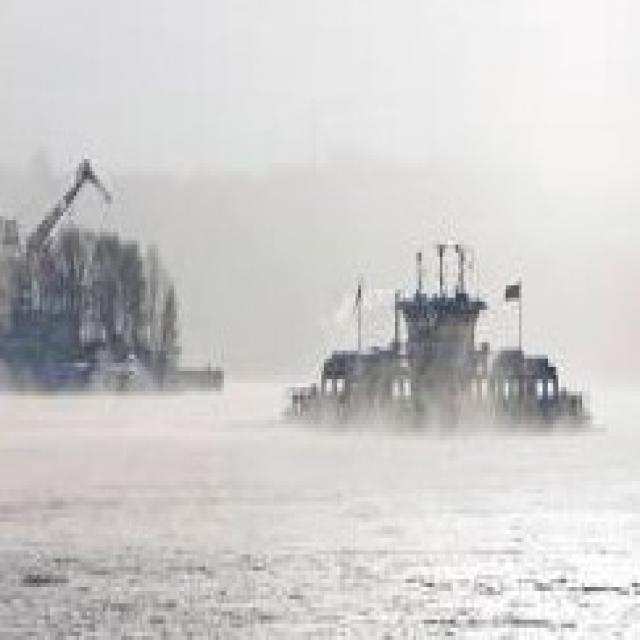fishing boat: (265, 237, 588, 439), (0, 171, 231, 393)
